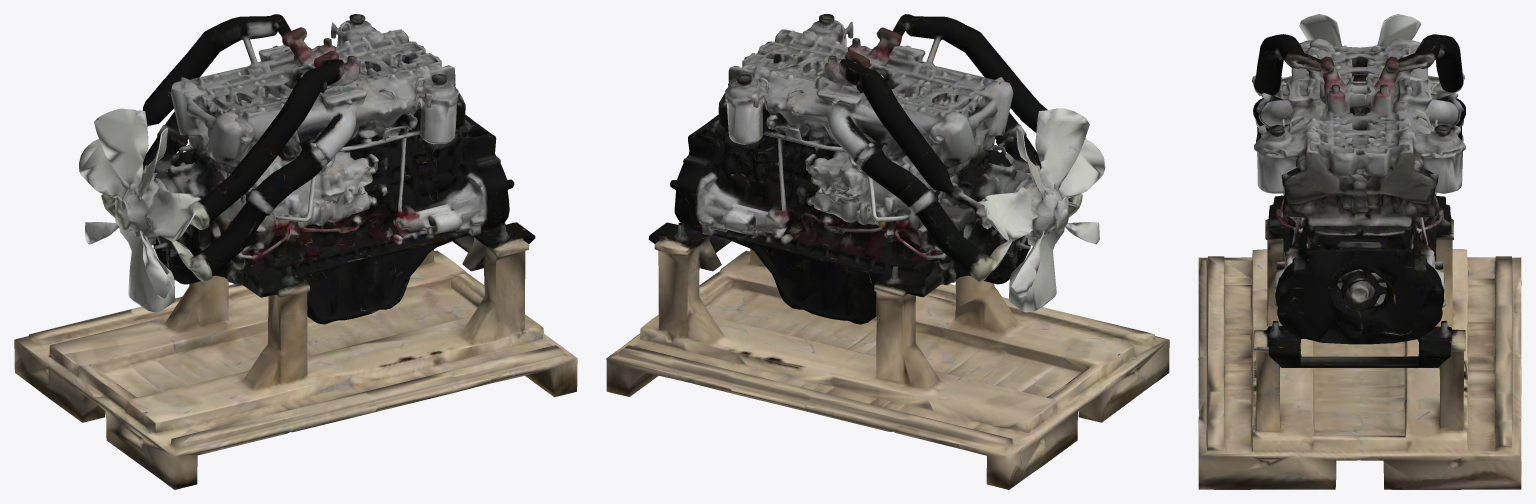
The model's file is motor-mitsubishi-6d34-remanufacturado.glb.
The picture shows the model from 3 angles, left to right: view 1: azimuth 30°, elevation 25°; view 2: azimuth 150°, elevation 25°; view 3: azimuth 270°, elevation 25°; orthographic projection.
Size of the model in its own units: 1.9 by 1.54 by 1.3.
1 material, 1 textured.
